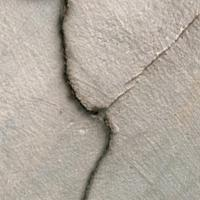crack: (37, 0, 133, 199)
